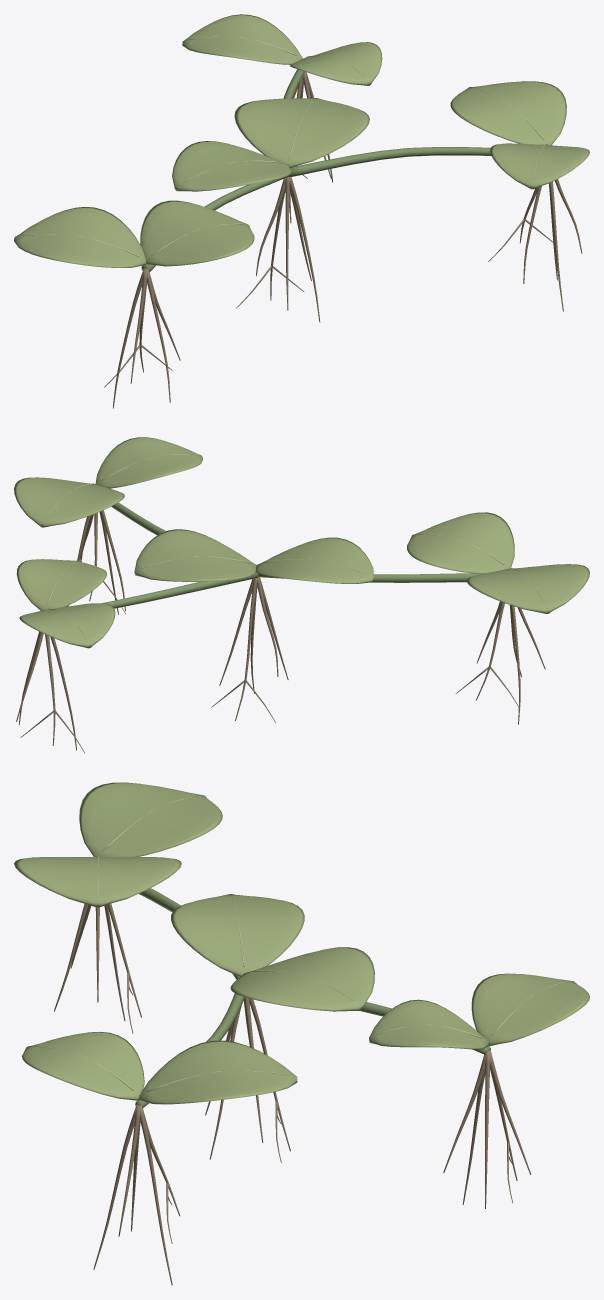
The model's file is limnobiophyllum.glb.
3 views of the same model, one above another, from view 1: azimuth 30°, elevation 25°; view 2: azimuth 150°, elevation 25°; view 3: azimuth 270°, elevation 25° (orthographic). The views are drawn at different scales.
Parts seen in each view (by area): view 1: small-stolon-linked-freshwater-leaf-rosettes, hanging-adventitious-and-simple-branched-root-bundles, persistent-branching-stolons-at-waterline, restrained-original-leaf-midribs; view 2: small-stolon-linked-freshwater-leaf-rosettes, hanging-adventitious-and-simple-branched-root-bundles, persistent-branching-stolons-at-waterline, restrained-original-leaf-midribs; view 3: small-stolon-linked-freshwater-leaf-rosettes, hanging-adventitious-and-simple-branched-root-bundles, persistent-branching-stolons-at-waterline, restrained-original-leaf-midribs.
Boxes of the visible parts, left/top/right/bottom form: small-stolon-linked-freshwater-leaf-rosettes: left=14, top=14, right=589, bottom=267; hanging-adventitious-and-simple-branched-root-bundles: left=104, top=72, right=582, bottom=408; persistent-branching-stolons-at-waterline: left=141, top=69, right=491, bottom=272; restrained-original-leaf-midribs: left=21, top=36, right=547, bottom=256; small-stolon-linked-freshwater-leaf-rosettes: left=14, top=437, right=589, bottom=648; hanging-adventitious-and-simple-branched-root-bundles: left=16, top=510, right=545, bottom=753; persistent-branching-stolons-at-waterline: left=102, top=502, right=481, bottom=608; restrained-original-leaf-midribs: left=45, top=454, right=545, bottom=639; small-stolon-linked-freshwater-leaf-rosettes: left=14, top=782, right=589, bottom=1104; hanging-adventitious-and-simple-branched-root-bundles: left=54, top=903, right=531, bottom=1285; persistent-branching-stolons-at-waterline: left=135, top=888, right=490, bottom=1108; restrained-original-leaf-midribs: left=33, top=795, right=569, bottom=1092.
Bounding box in the file's own units: 0.1647 × 0.048 × 0.1255.
